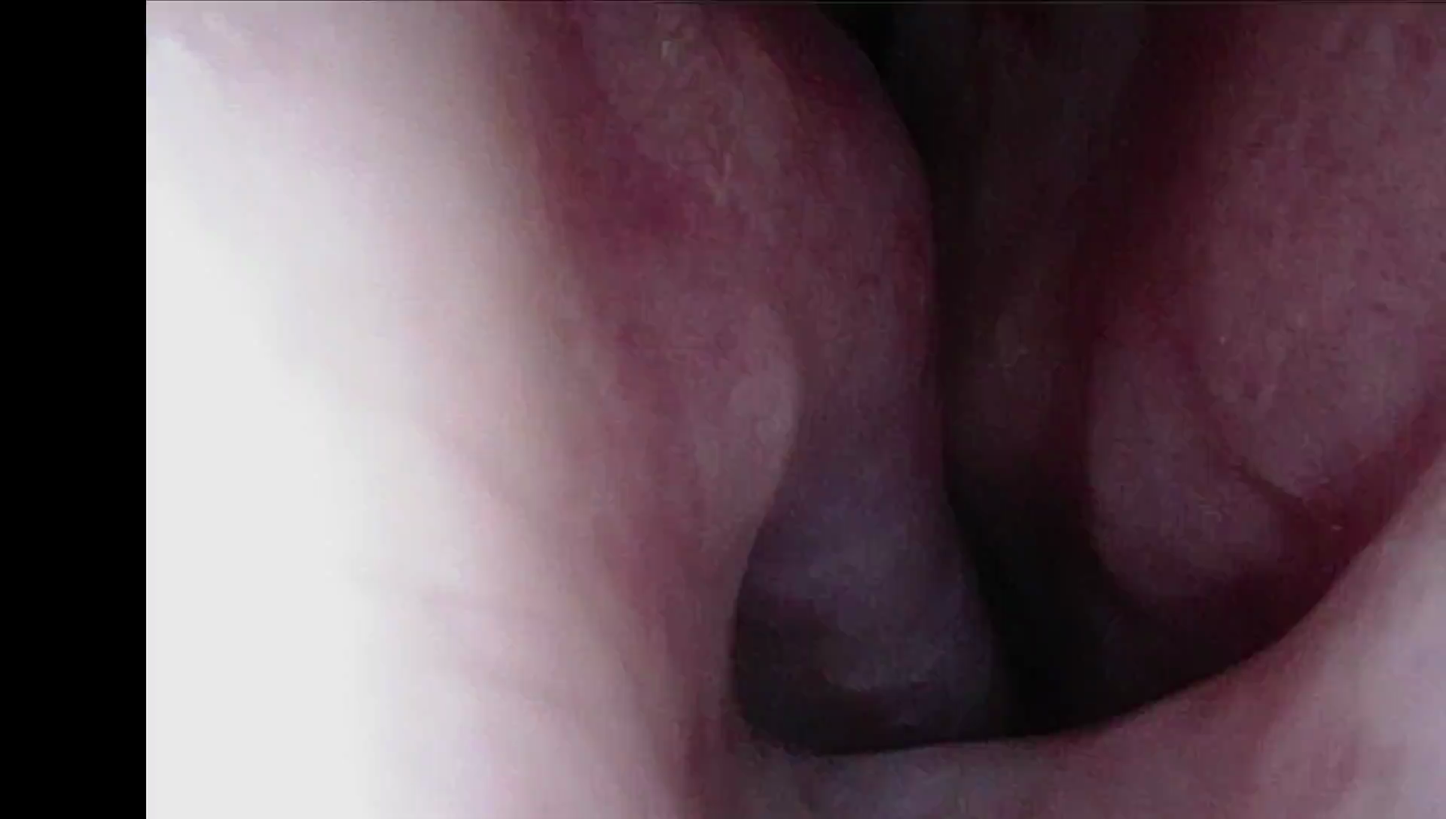close_wall: (149, 5, 649, 819)
next: (926, 443, 1199, 750), (724, 552, 906, 775), (850, 29, 1017, 248)
